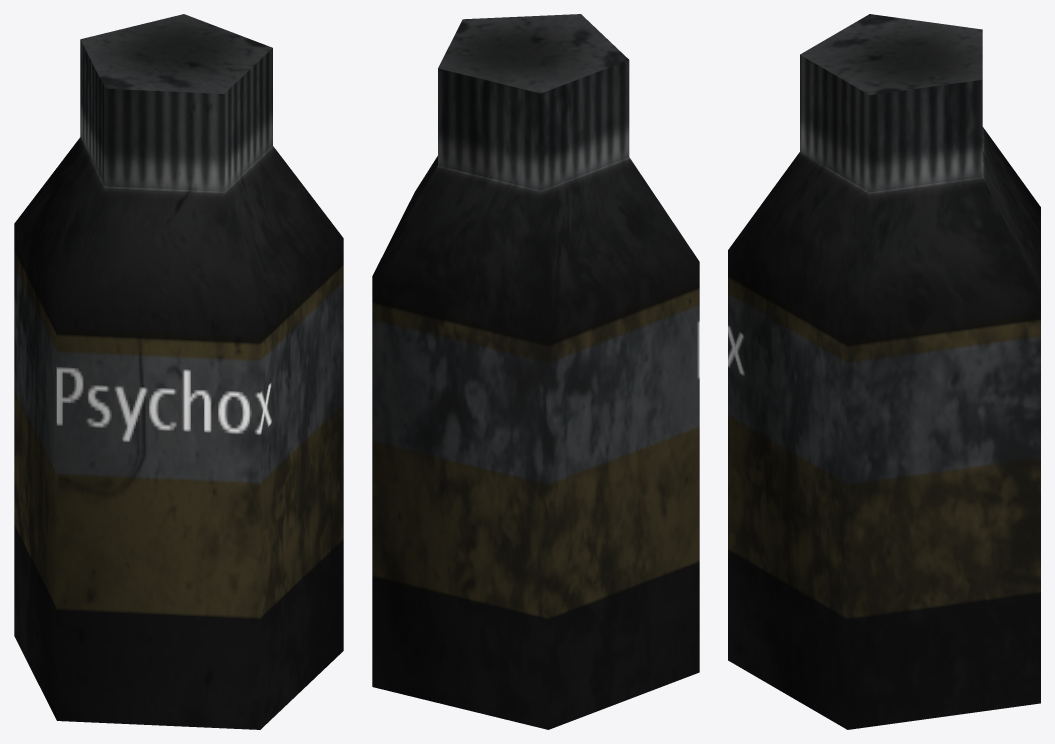
The model's file is medicine_mid_B.fbx.
The picture shows the model from 3 angles, left to right: view 1: azimuth 30°, elevation 25°; view 2: azimuth 150°, elevation 25°; view 3: azimuth 270°, elevation 25°; orthographic projection.
Visible parts, largest first — view 1: medicine_mid_B; view 2: medicine_mid_B; view 3: medicine_mid_B.
Part boxes in pixels (left/top/right/bottom): medicine_mid_B: left=14, top=14, right=343, bottom=729; medicine_mid_B: left=372, top=14, right=699, bottom=729; medicine_mid_B: left=728, top=14, right=1040, bottom=729.
Bounding box in the file's own units: 8.57 × 17.42 × 8.15.
